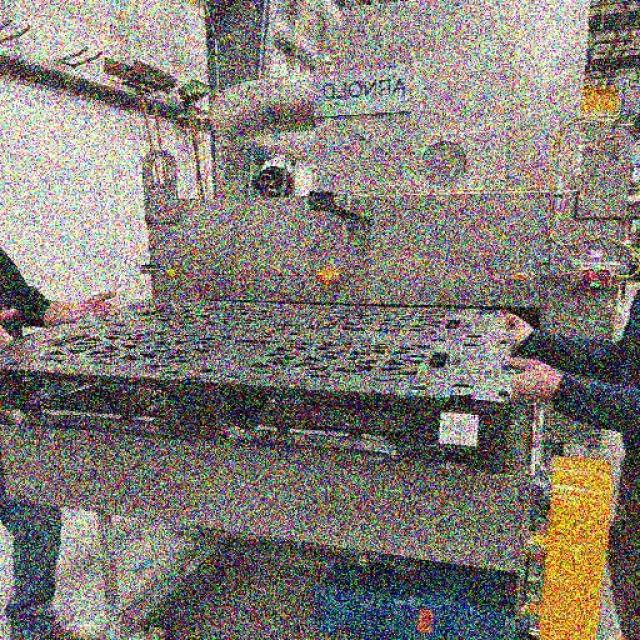igps: (0, 284, 547, 487)
